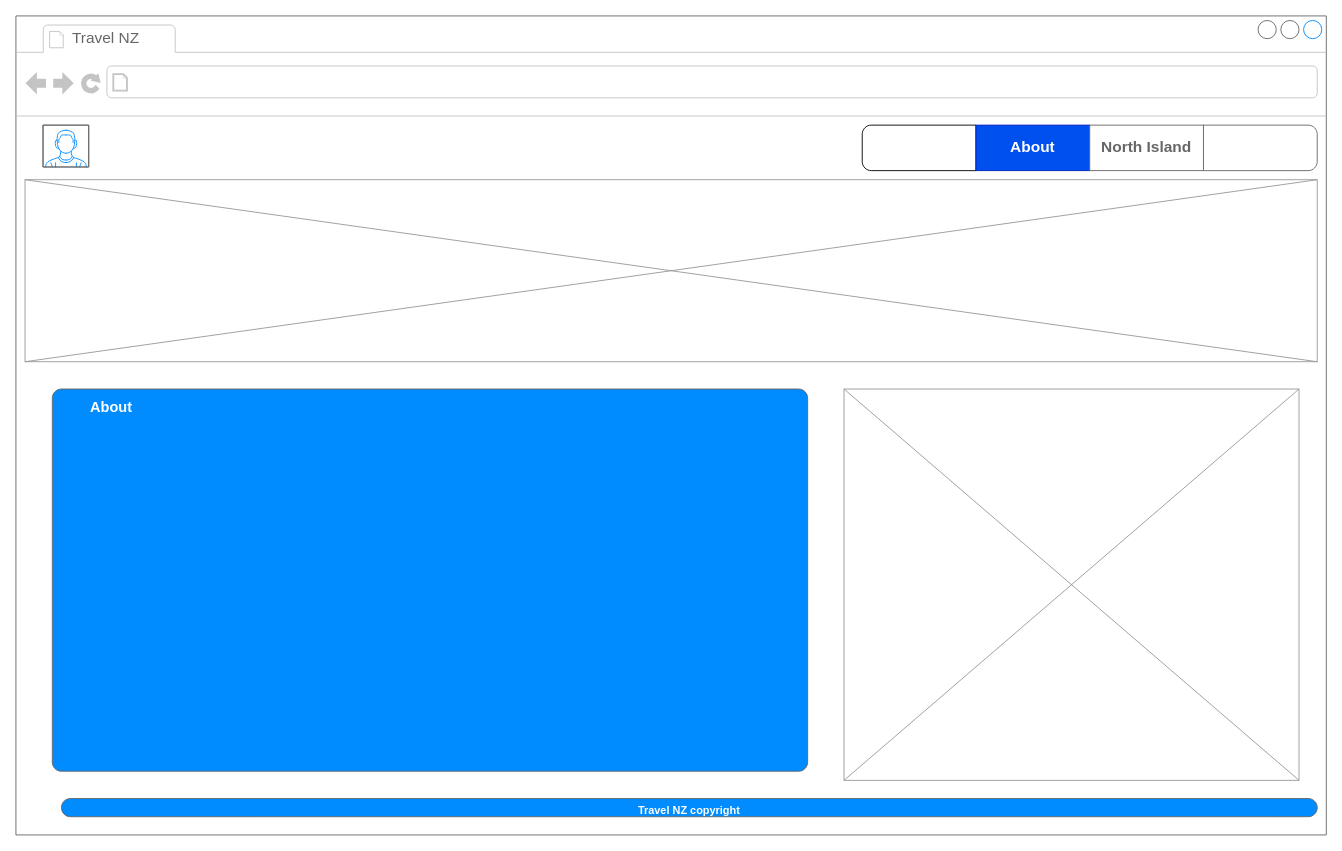
The diagram is 1342 pixels wide and 851 high, and some of its shapes have lost their labels. The shapes that lost their labels are listed below. From the top down, each one's centre as x and y in pixels, then its label:
[247,82]: https://www.draw.io
[918,147]: Home
[1260,147]: South Island
